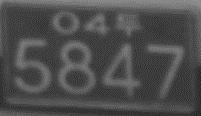0: (50, 10, 80, 36)
4: (102, 42, 142, 97), (83, 11, 111, 38)
5: (12, 39, 52, 94)
7: (146, 43, 186, 98)
8: (56, 39, 97, 96)
두: (115, 12, 142, 36)
